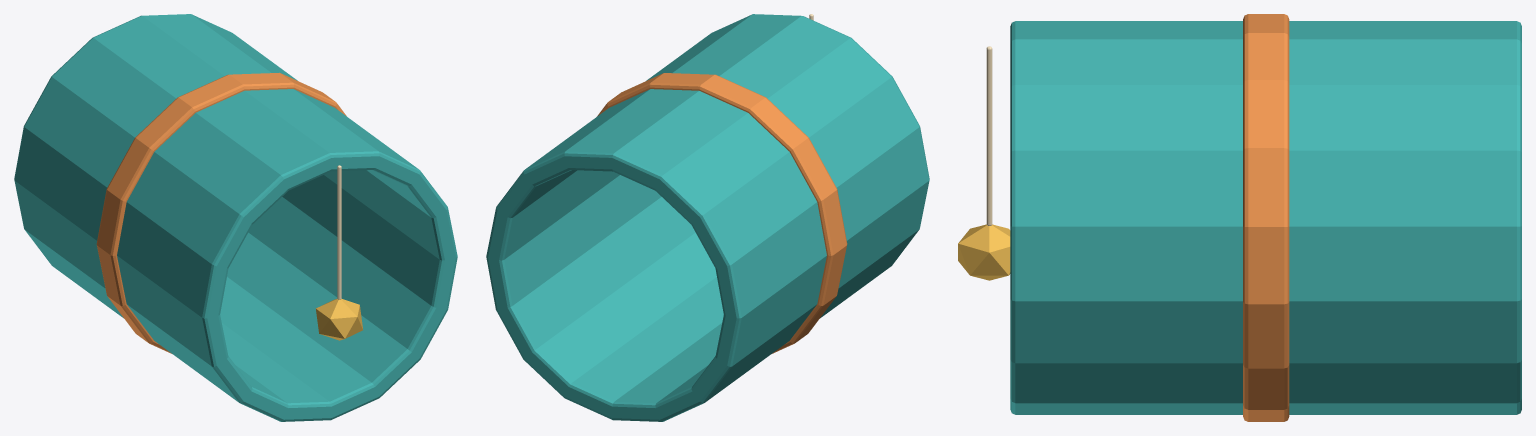
The model's file is PlayTunnel.fbx.
3 views of the same model, side by side, from view 1: azimuth 30°, elevation 25°; view 2: azimuth 150°, elevation 25°; view 3: azimuth 270°, elevation 25° (orthographic). The views are drawn at different scales.
Visible parts, largest first — view 1: Tunnel_Body, Tunnel_Band_00, Tunnel_HangingBall, Tunnel_String; view 2: Tunnel_Body, Tunnel_Band_00; view 3: Tunnel_Body, Tunnel_Band_00, Tunnel_HangingBall, Tunnel_String.
Part boxes in pixels (<box>): Tunnel_Body: <box>14,14,457,421</box>; Tunnel_Band_00: <box>96,72,346,353</box>; Tunnel_HangingBall: <box>315,298,362,340</box>; Tunnel_String: <box>337,165,341,299</box>; Tunnel_Body: <box>486,14,929,421</box>; Tunnel_Band_00: <box>597,73,847,353</box>; Tunnel_Body: <box>1010,21,1521,414</box>; Tunnel_Band_00: <box>1243,14,1289,421</box>; Tunnel_HangingBall: <box>958,224,1010,280</box>; Tunnel_String: <box>986,46,992,225</box>.
Size of the model in its own units: 0.974 by 0.974 by 1.35.
